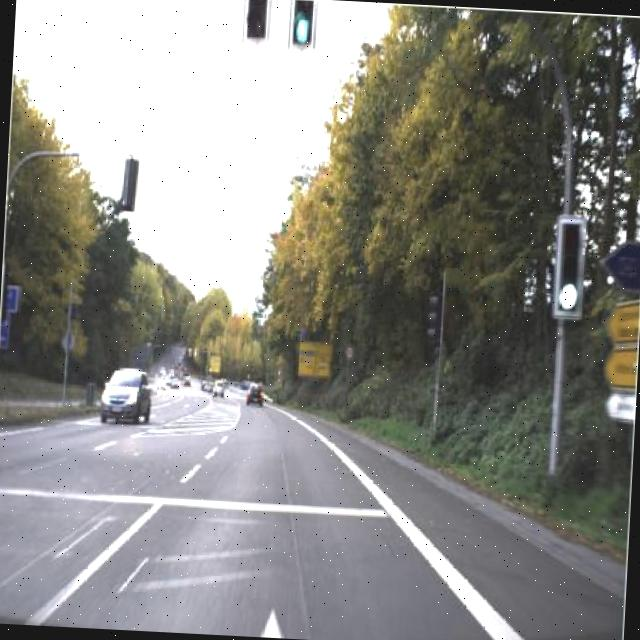Ograniczenie predkosci do 50: (344, 342, 356, 363)
